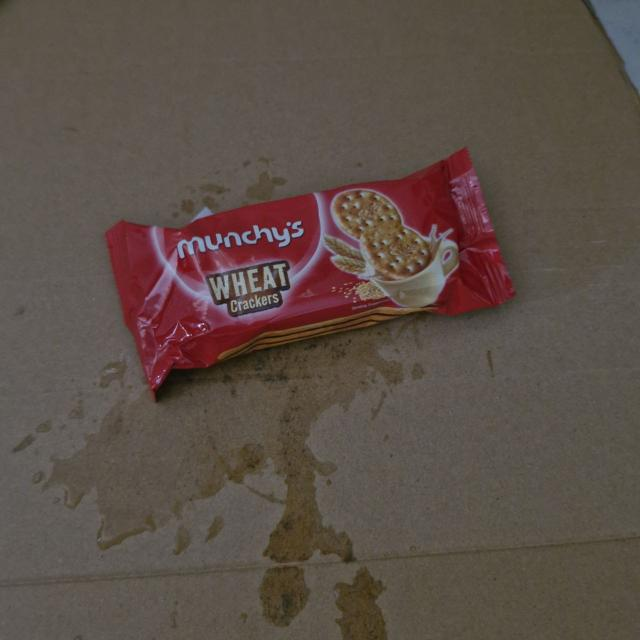plastic: (106, 138, 523, 398)
